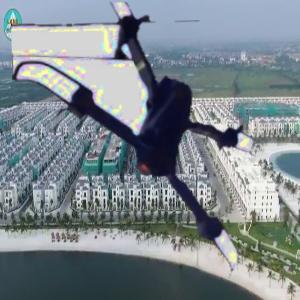drone: (15, 1, 298, 284)
